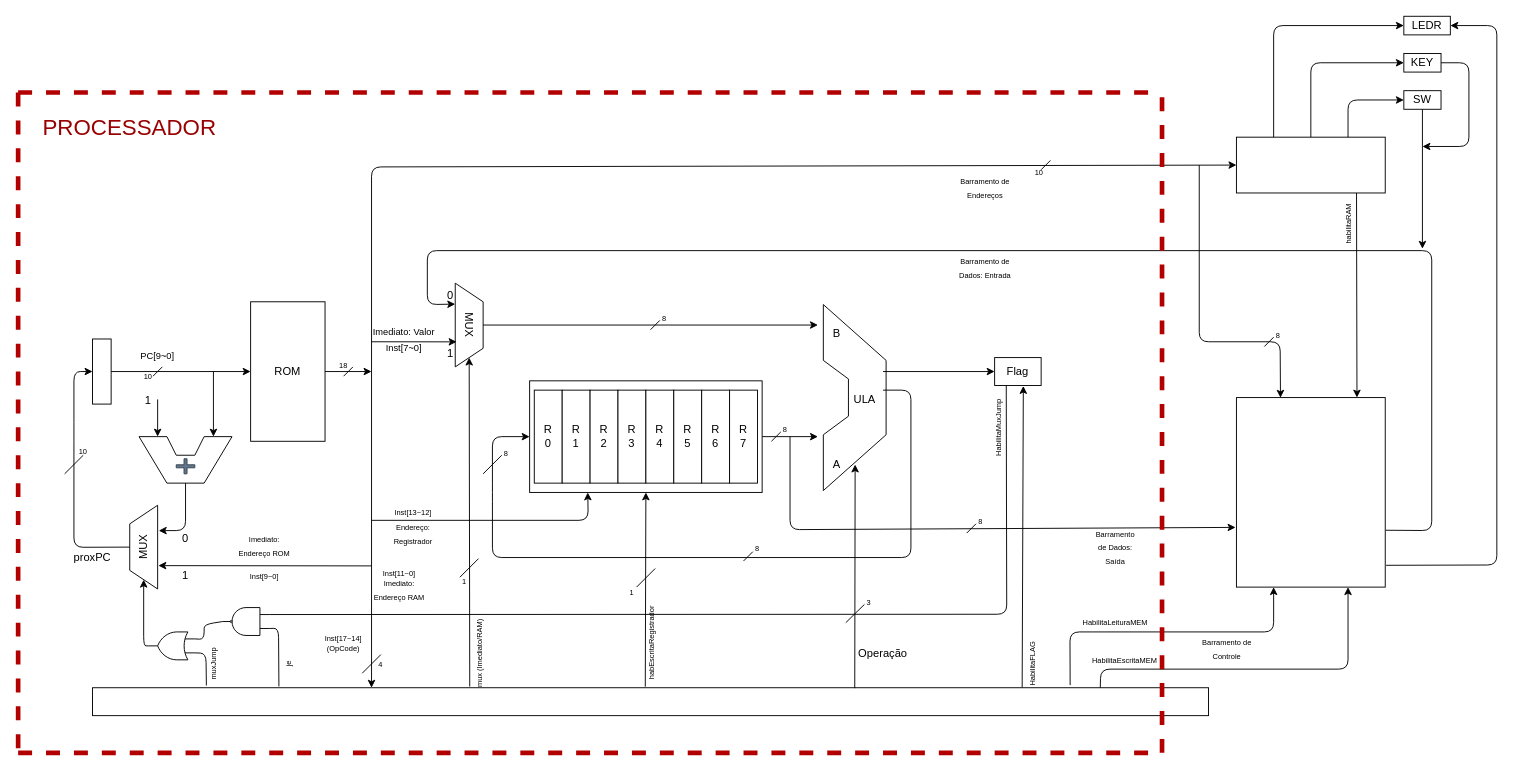
The diagram is 1521 pixels wide and 776 high, and some of its shapes have lost their labels. The centre of each missing label's shape, as x and y in pixels:
AND: (245,621)
Decodificador de Endereços: (1310,164)
Mem. RAM: (1310,492)
OR: (171,645)
PC: (101,371)
Unidade de Controle do Fluxo de Dados: (650,701)
